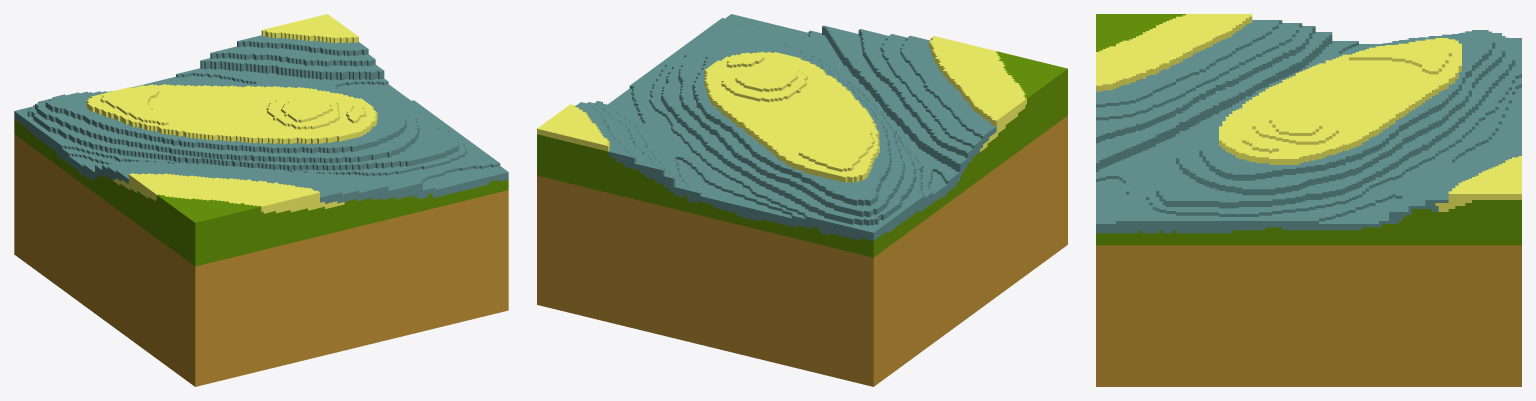
3 views of the same model, side by side, from view 1: azimuth 30°, elevation 25°; view 2: azimuth 150°, elevation 25°; view 3: azimuth 270°, elevation 25° (orthographic). The views are drawn at different scales.
Visible parts, largest first — view 1: 12K; view 2: 12K; view 3: 12K.
Boxes of the visible parts, x1,y1,x2,y2 form: 12K: (14,14,508,386); 12K: (537,14,1067,386); 12K: (1096,14,1521,386).
Bounding box in the file's own units: 12.8 × 6.6 × 12.8.
Materials: 1 (1 with a texture image).
